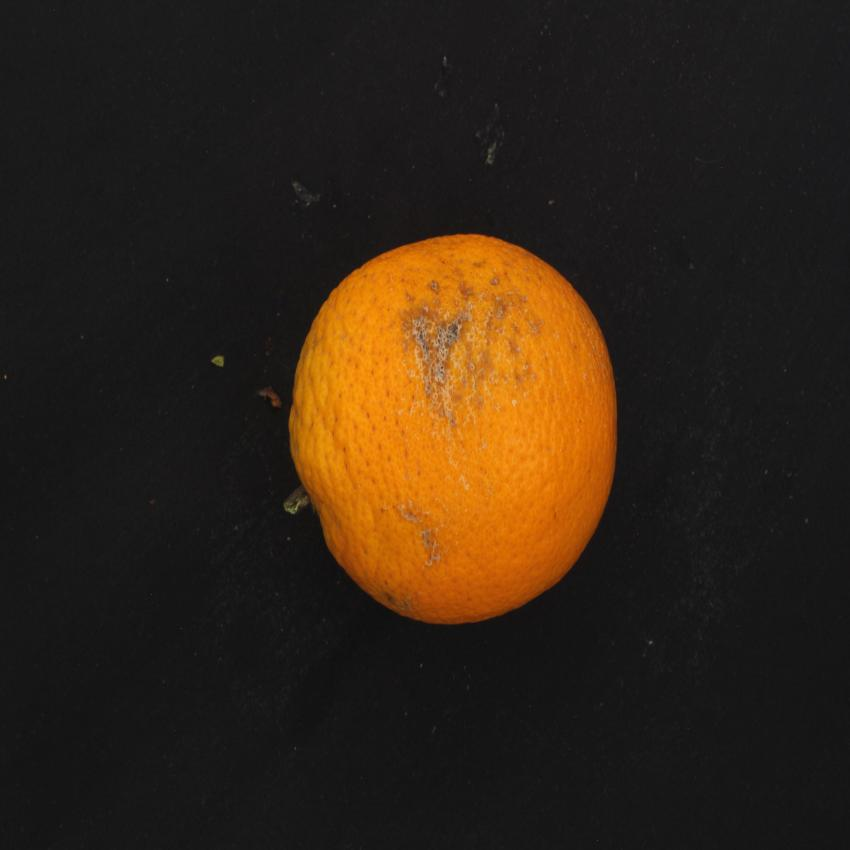Buen estado: (274, 224, 626, 637)
